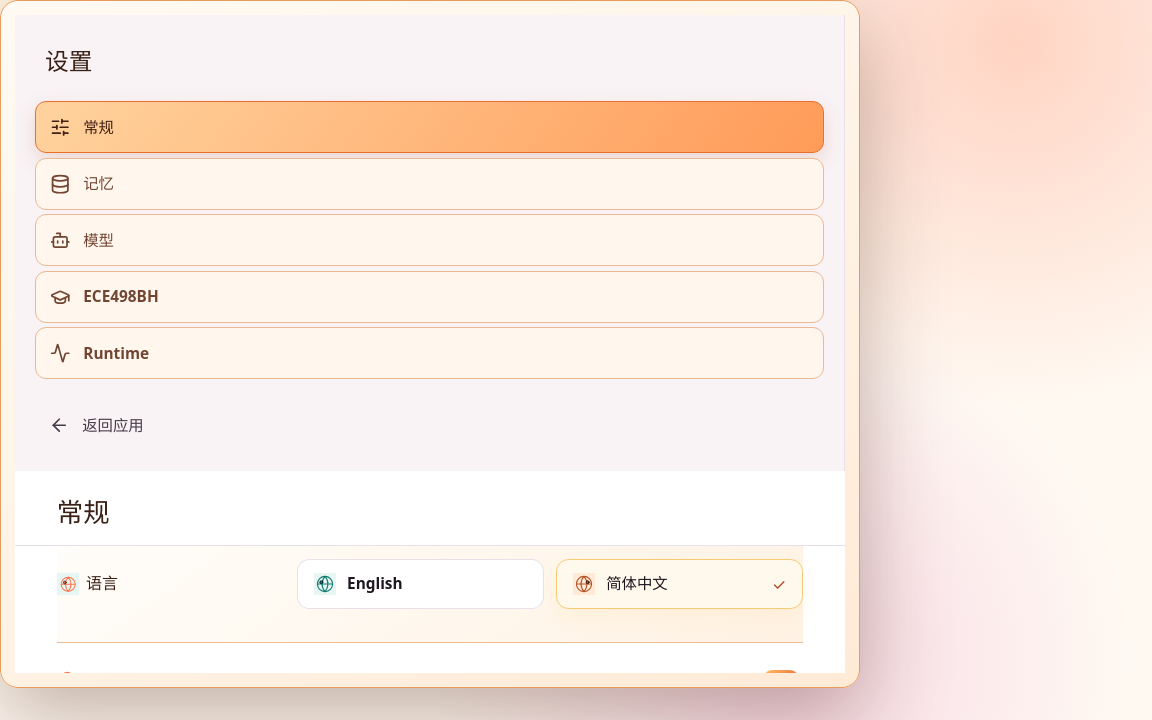
Field settings update center › starts the native Runtime Base upgrade with Simplified Chinese feedback
This screenshot has width=1152, height=720.
Click the tab "Runtime" at (116, 353), box [35,327,824,379]
(page scrolled)
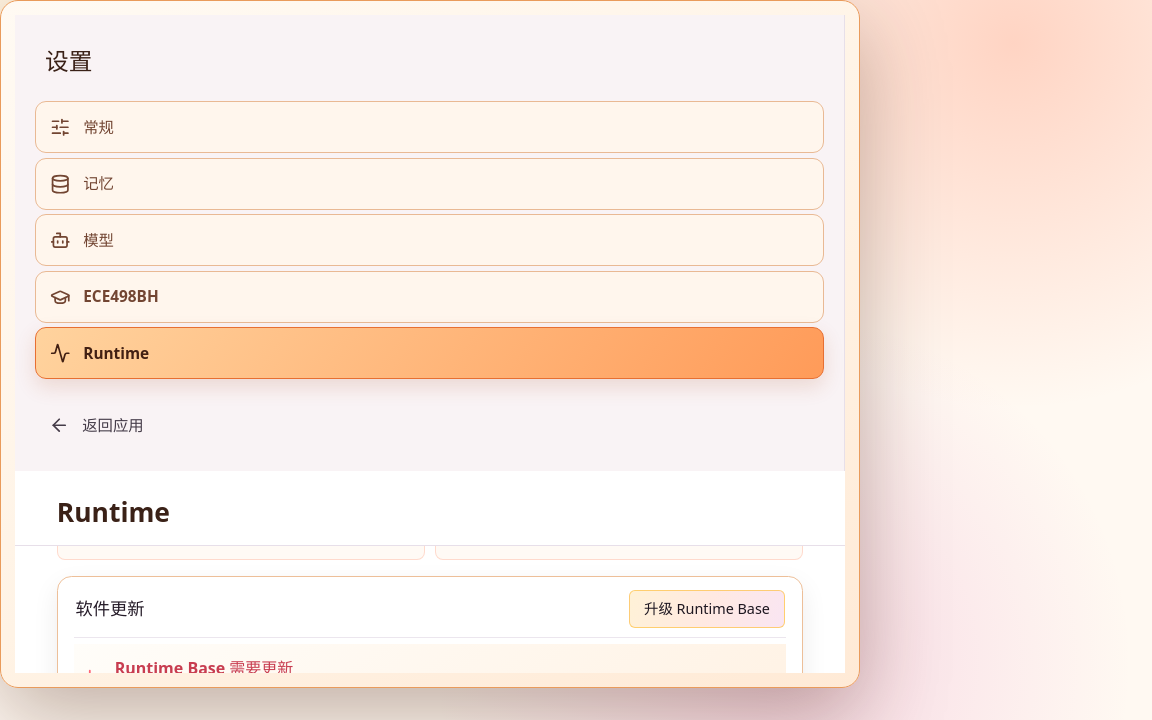
expect the heading "软件更新" is shown: met, box [76,598,145,620]
Click the button "升级 Runtime Base" at (707, 609), box [629,590,784,628]
(page scrolled)
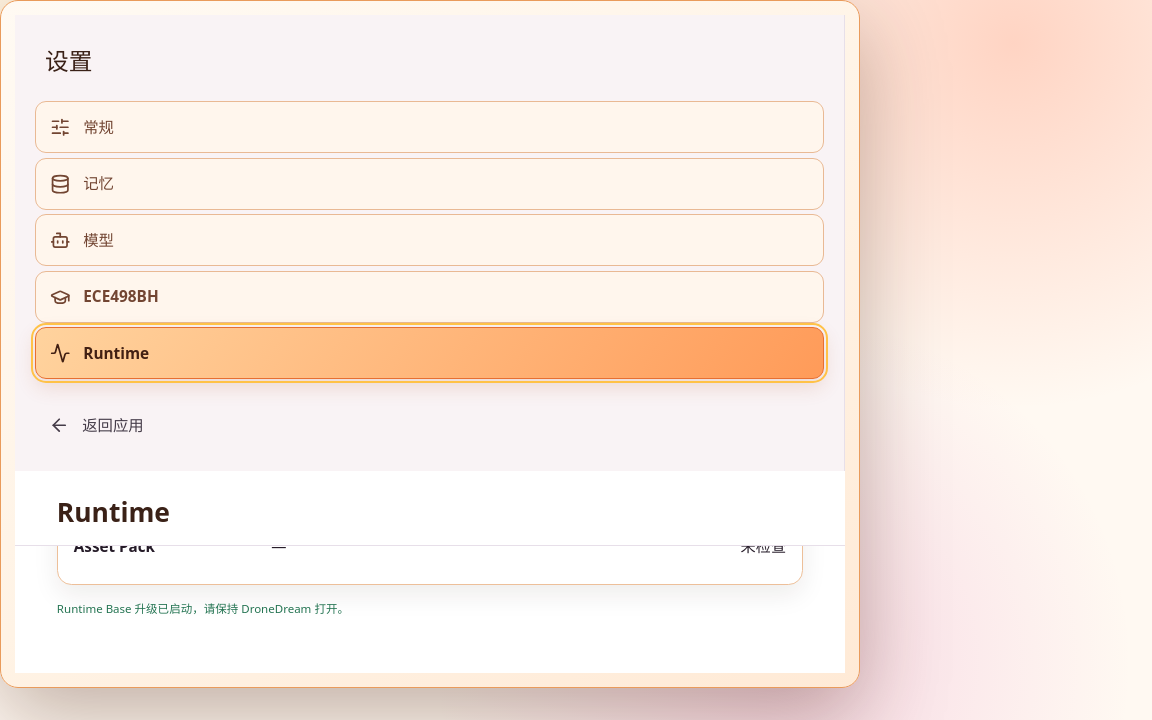
expect the text "Runtime Base 升级已启动，请保持 DroneDream 打开。" is shown: met, box [57,601,349,616]
